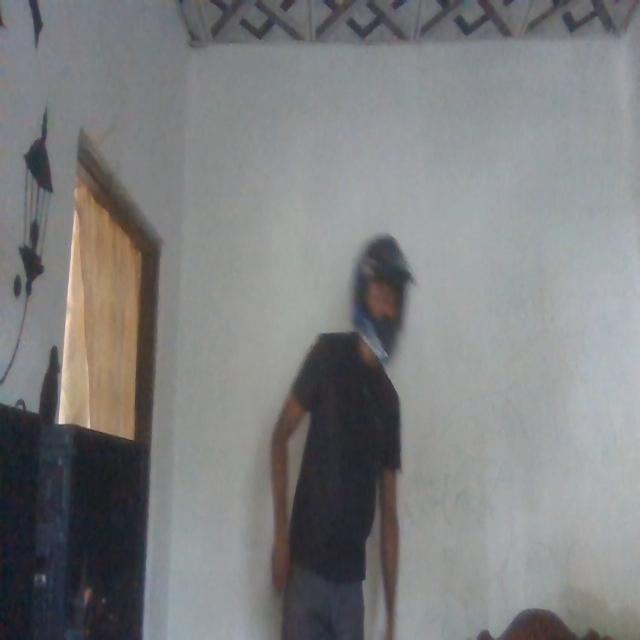Helmet_Wearer: (335, 224, 413, 359)
Person: (268, 232, 414, 640)
